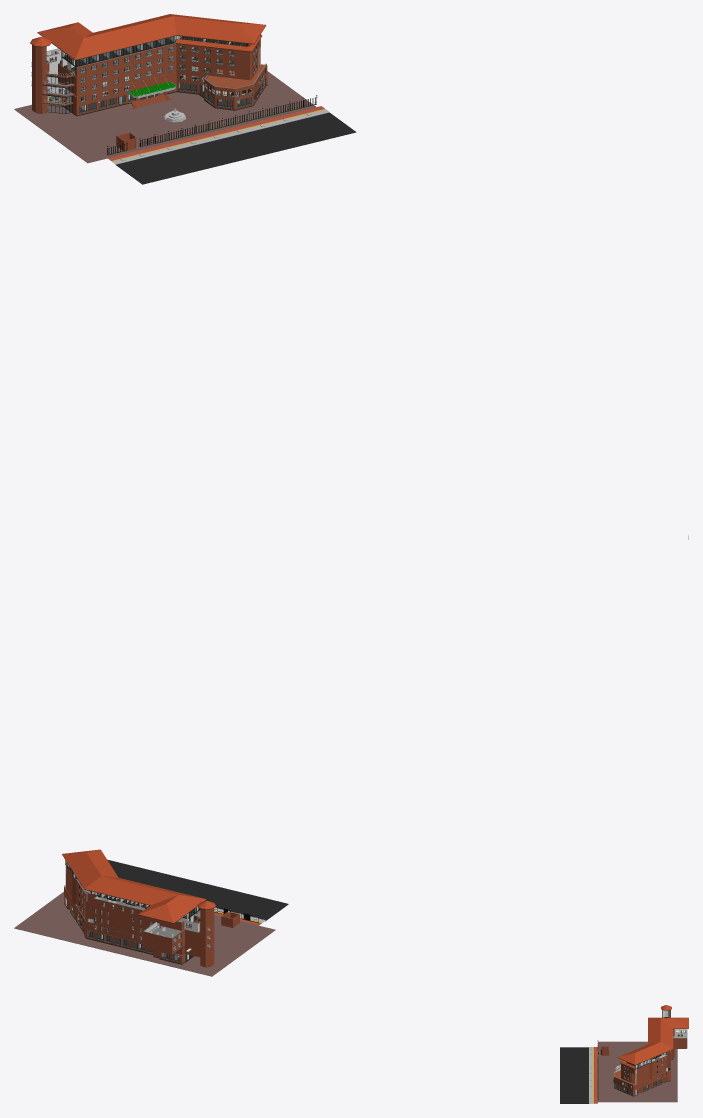
File: hlf.glb
3 views of the same model, one above another, from view 1: azimuth 30°, elevation 25°; view 2: azimuth 150°, elevation 25°; view 3: azimuth 270°, elevation 25° (orthographic). The views are drawn at different scales.
Visible parts, largest first — view 1: Suelos (×6), Muros (×5), Cubiertas, Modelos genéricos; view 2: Suelos (×2), Muros (×5), Cubiertas; view 3: Suelos (×5), Muros (×5), Cubiertas.
Boxes of the visible parts, x1=… form: Suelos (×6): x1=14, y1=36, x2=356, y2=184; Muros (×5): x1=32, y1=39, x2=267, y2=151; Cubiertas: x1=30, y1=14, x2=265, y2=59; Modelos genéricos: x1=107, y1=96, x2=317, y2=154; Suelos (×2): x1=14, y1=859, x2=288, y2=976; Muros (×5): x1=64, y1=866, x2=239, y2=966; Cubiertas: x1=62, y1=849, x2=215, y2=922; Suelos (×5): x1=560, y1=1041, x2=677, y2=1103; Muros (×5): x1=600, y1=1031, x2=687, y2=1095; Cubiertas: x1=617, y1=1005, x2=688, y2=1064.
Size of the model in its own units: 76.63 by 24.08 by 354.
